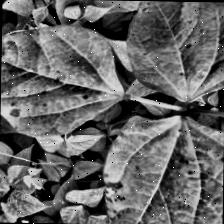ALS: (0, 22, 127, 135), (102, 115, 224, 224), (123, 0, 224, 106)
